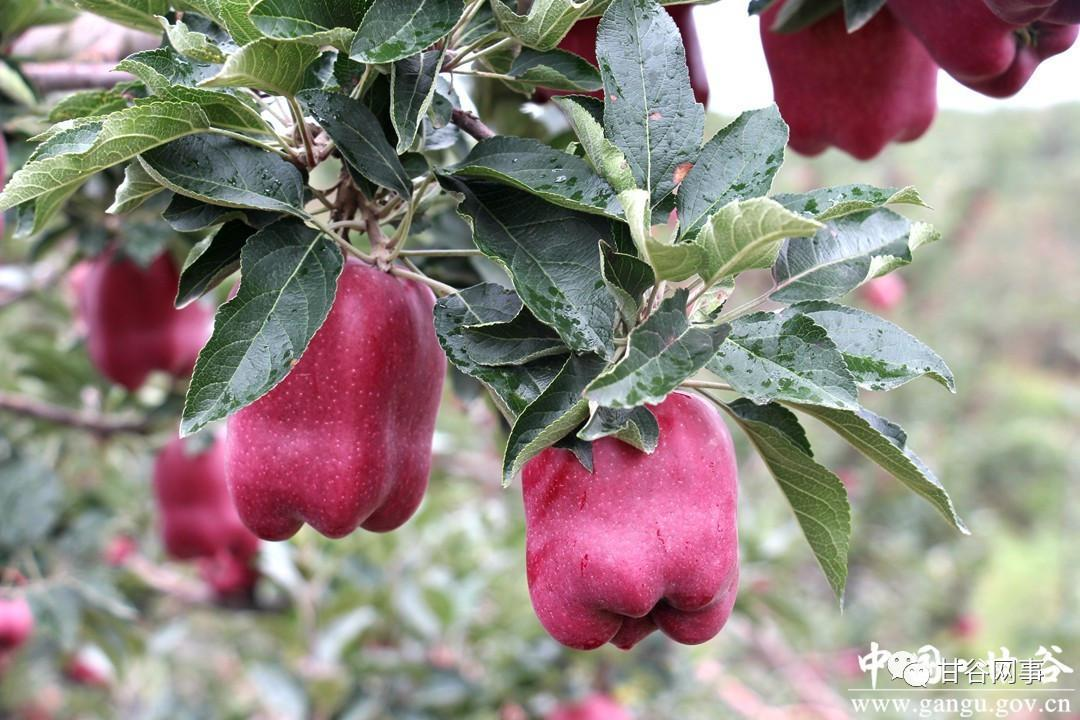apple: (227, 257, 449, 546), (516, 393, 742, 652)
